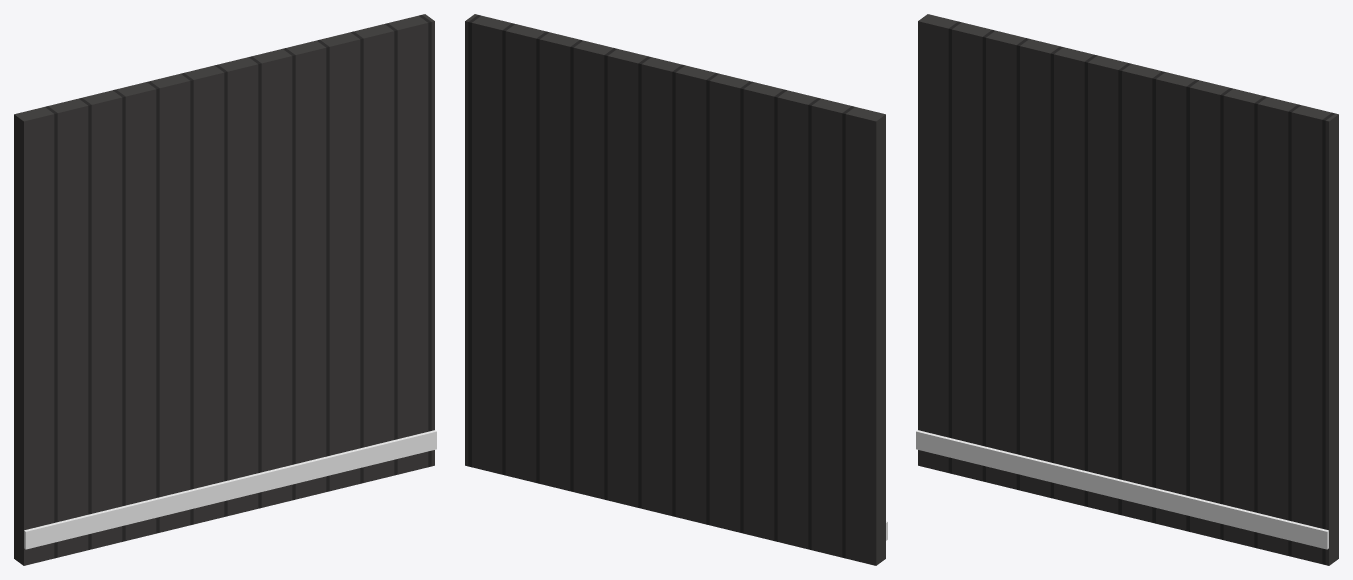
The model's file is wall50.obj.
The picture shows the model from 3 angles, left to right: view 1: azimuth 30°, elevation 25°; view 2: azimuth 150°, elevation 25°; view 3: azimuth 330°, elevation 25°; orthographic projection.
Size of the model in its own units: 12.1 by 12.5 by 0.6.
Materials: 1 (1 with a texture image).
